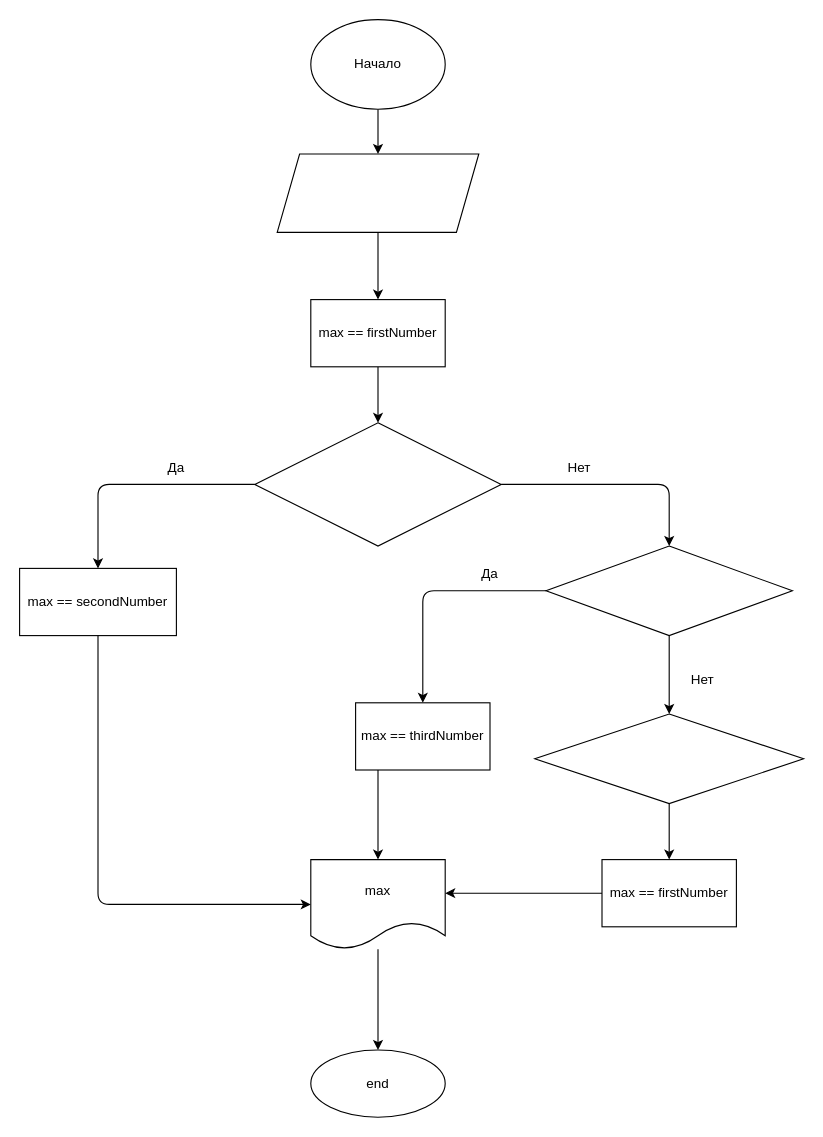
Some shapes in this 823 by 1137 pixel diagram are drawn without their labels. Here are the shapes that lost their labels. From the top down, the box of each, then its label:
(276, 153, 479, 232): firstNumber secondNumber thirdNumber
(254, 422, 501, 546): secondNumber > firstNumber
(545, 545, 792, 636): thirdNumber > secondNumber
(534, 713, 804, 804): secondNumber > thirdNumber
